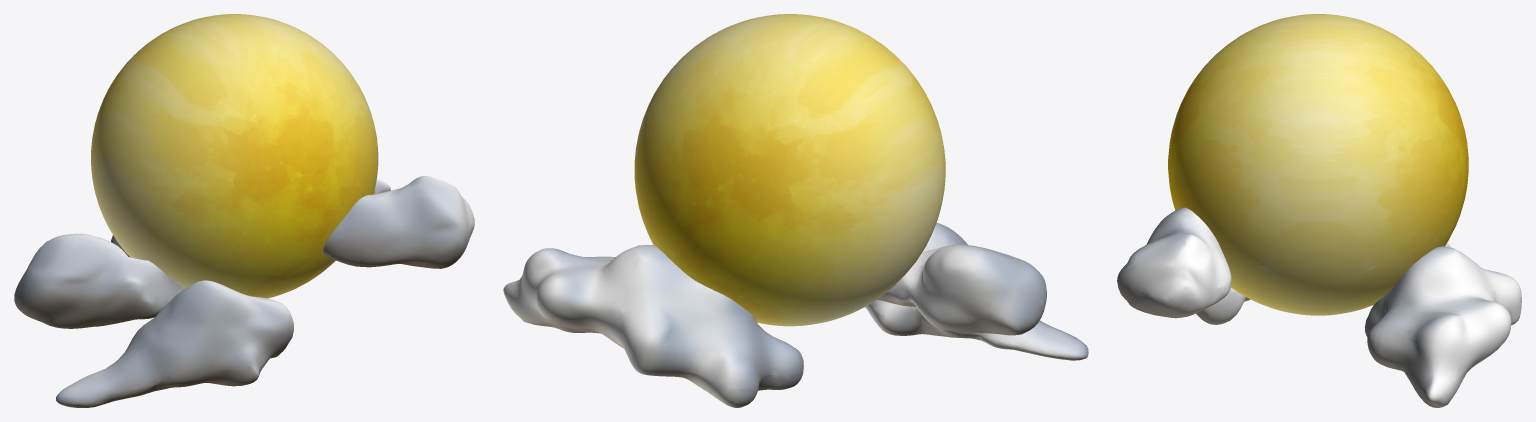
The model's file is moonAerialAni.glb.
3 views of the same model, side by side, from view 1: azimuth 30°, elevation 25°; view 2: azimuth 150°, elevation 25°; view 3: azimuth 270°, elevation 25° (orthographic). The views are drawn at different scales.
Parts seen in each view (by area): view 1: home_moon002, home_cloud002; view 2: home_moon002, home_cloud002; view 3: home_moon002, home_cloud002.
Part boxes in pixels (x1,y1,x2,y2): home_moon002: (91, 14, 378, 298); home_cloud002: (14, 176, 474, 407); home_moon002: (634, 14, 945, 326); home_cloud002: (503, 223, 1088, 407); home_moon002: (1168, 14, 1468, 315); home_cloud002: (1117, 207, 1521, 407).
Bounding box in the file's own units: 4.48 × 2.88 × 3.44.
Materials: 2 (2 with a texture image).
